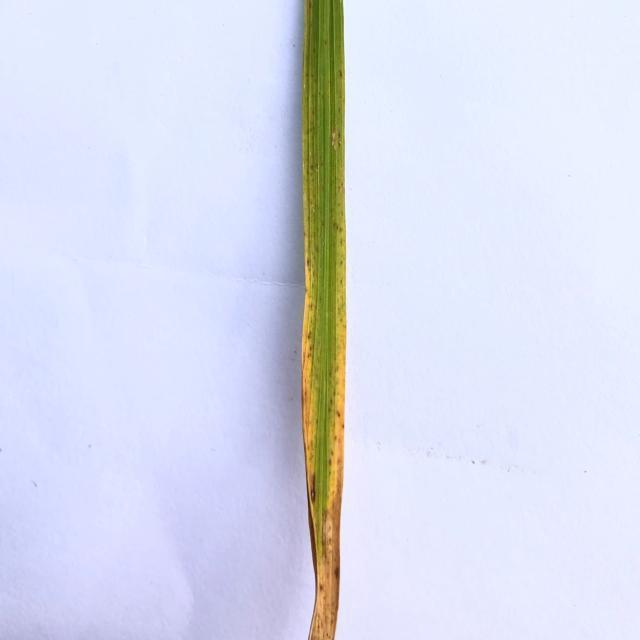Rice Tungro: (328, 212, 348, 638), (303, 227, 317, 555)
